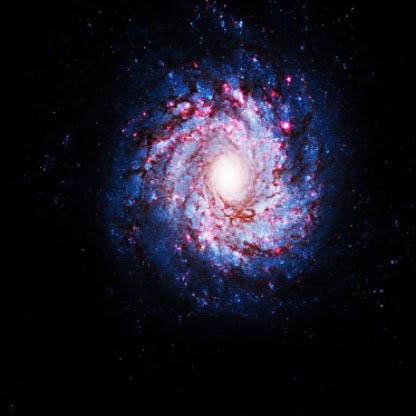NGC 3982: (103, 16, 331, 315)
